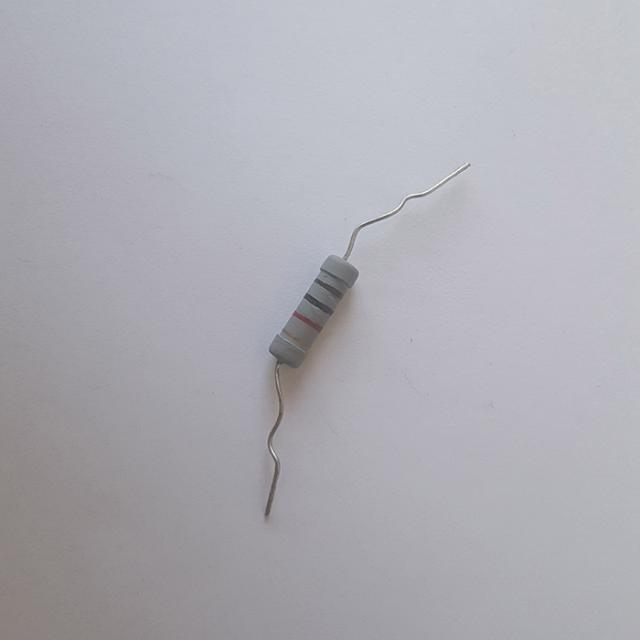black: (304, 293, 331, 315)
brown: (315, 277, 344, 298)
gold: (281, 328, 309, 349)
red: (293, 311, 321, 331)
resistor: (257, 243, 373, 384)
